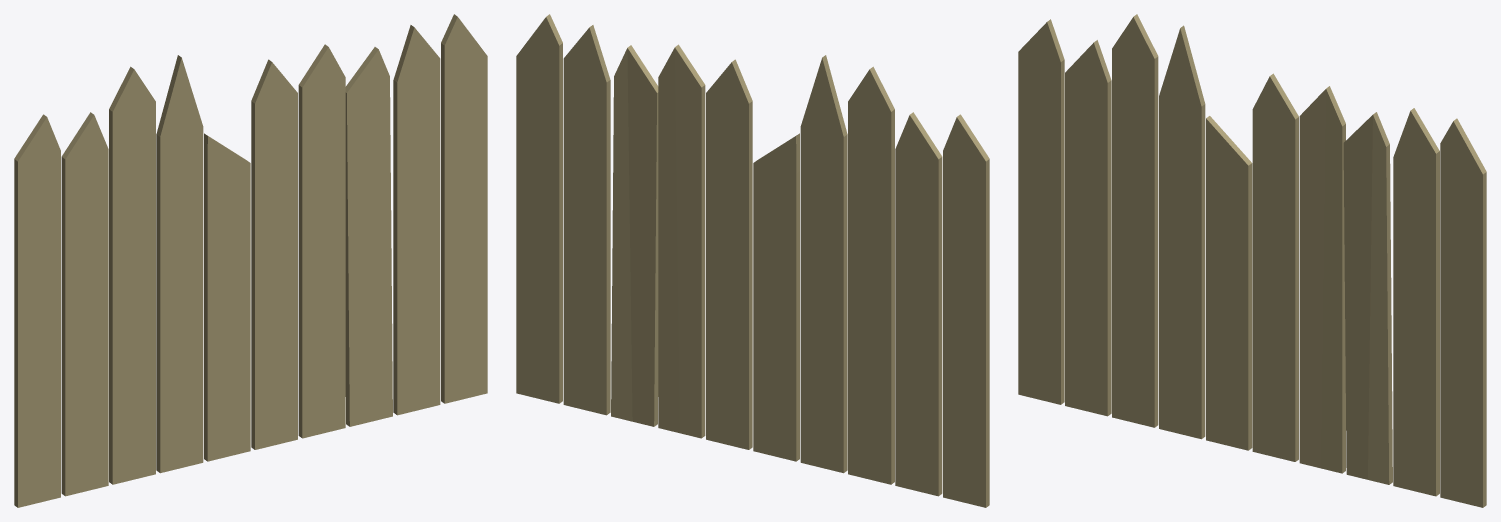
File: Fence(1).fbx
The picture shows the model from 3 angles, left to right: view 1: azimuth 30°, elevation 25°; view 2: azimuth 150°, elevation 25°; view 3: azimuth 330°, elevation 25°; orthographic projection.
Visible parts, largest first — view 1: Cube.053; view 2: Cube.053; view 3: Cube.053.
Part boxes in pixels (x1=…): Cube.053: x1=14, y1=14, x2=487, y2=507; Cube.053: x1=516, y1=14, x2=989, y2=507; Cube.053: x1=1018, y1=14, x2=1486, y2=507.
Size of the model in its own units: 220 by 184 by 4.13.
Materials: 1 (1 with a texture image).
